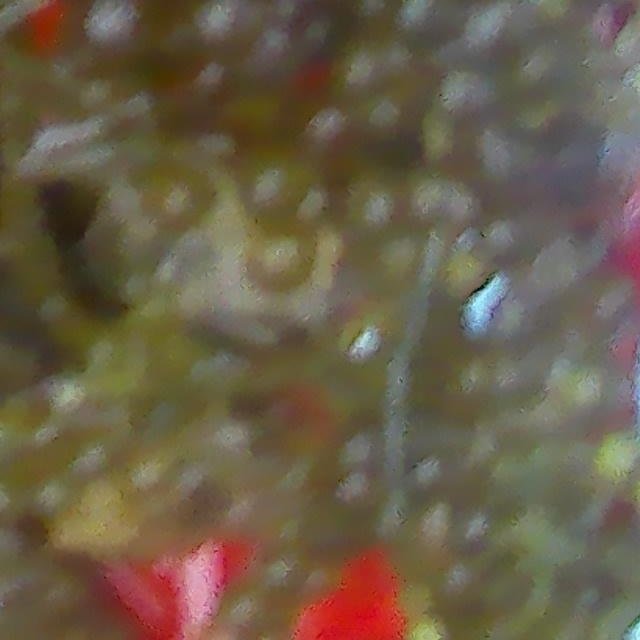SeaGrape: (78, 0, 130, 60), (204, 0, 248, 54)
